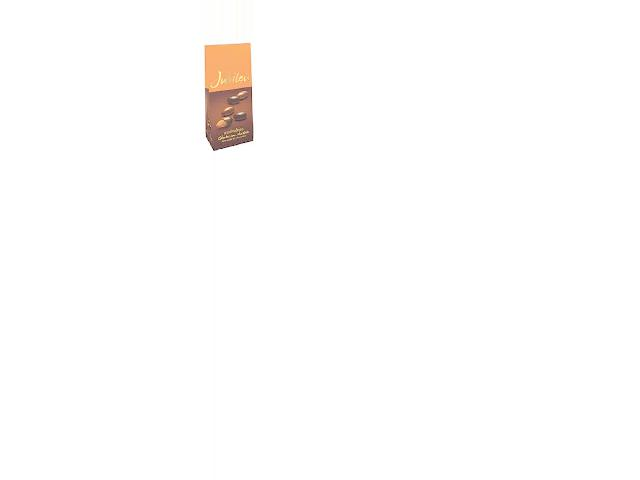chocolate: (202, 43, 259, 149)
